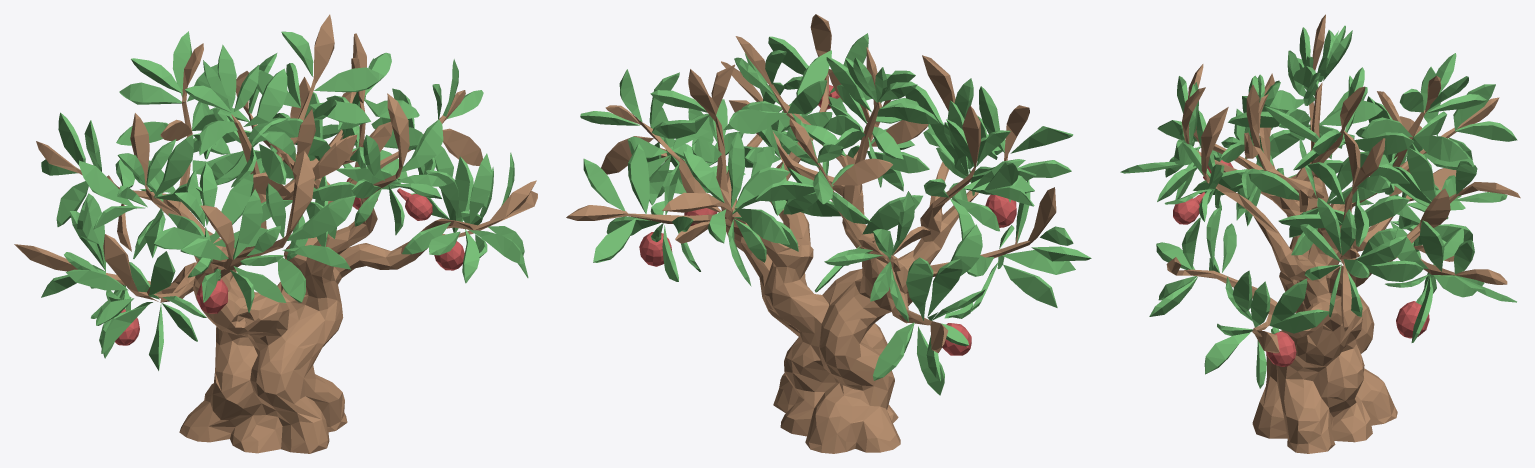
The model's file is olive.glb.
The picture shows the model from 3 angles, left to right: view 1: azimuth 30°, elevation 25°; view 2: azimuth 150°, elevation 25°; view 3: azimuth 270°, elevation 25°; orthographic projection.
Parts seen in each view (by area): view 1: geometry_0; view 2: geometry_0; view 3: geometry_0.
Boxes of the visible parts, x1,y1,x2,y2 form: geometry_0: (14,14,537,453); geometry_0: (566,14,1091,453); geometry_0: (1120,14,1520,453).
Bounding box in the file's own units: 0.4074 × 0.3195 × 0.3073.
